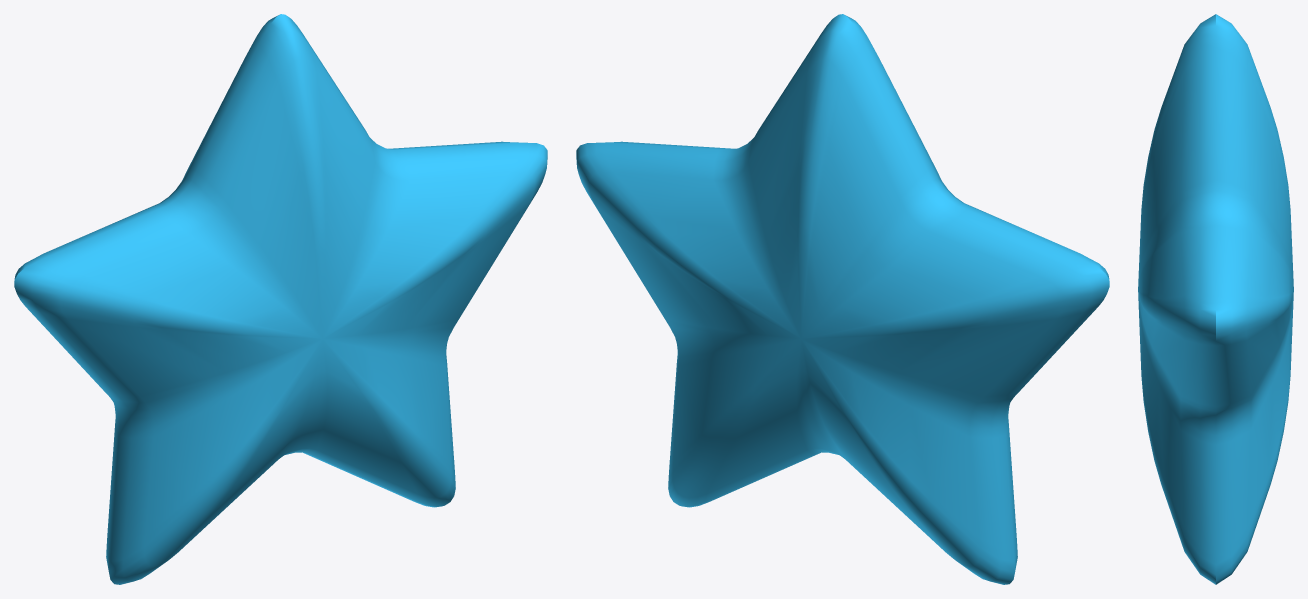
The model's file is Star B.fbx.
The picture shows the model from 3 angles, left to right: view 1: azimuth 30°, elevation 25°; view 2: azimuth 150°, elevation 25°; view 3: azimuth 270°, elevation 25°; orthographic projection. The views are drawn at different scales.
Parts seen in each view (by area): view 1: Star B; view 2: Star B; view 3: Star B.
Part boxes in pixels (x1,y1,x2,y2): Star B: [14, 14, 547, 584]; Star B: [576, 14, 1109, 584]; Star B: [1138, 14, 1293, 584].
Size of the model in its own units: 86.09 by 82.01 by 23.33.
